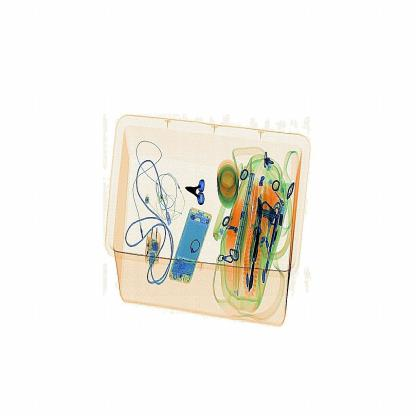gun: (181, 166, 214, 215)
